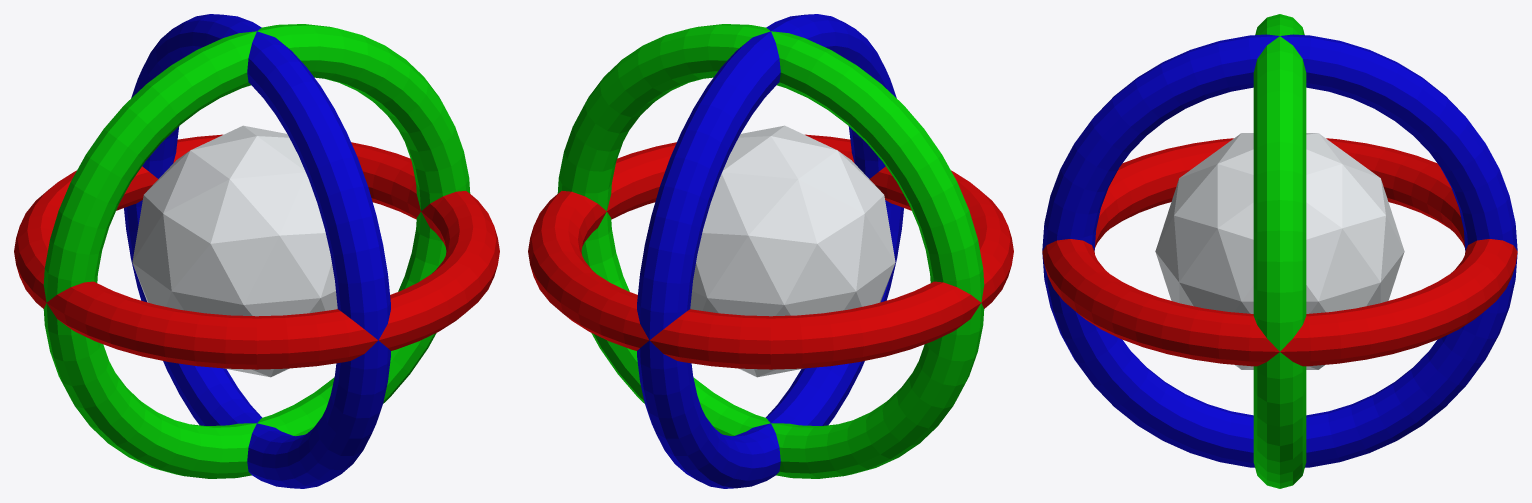
The model's file is fance.fbx.
The picture shows the model from 3 angles, left to right: view 1: azimuth 30°, elevation 25°; view 2: azimuth 150°, elevation 25°; view 3: azimuth 270°, elevation 25°; orthographic projection. The views are drawn at different scales.
Parts seen in each view (by area): view 1: Torus.002, Torus.001, Torus, Icosphere; view 2: Torus.002, Torus.001, Torus, Icosphere; view 3: Torus.001, Torus, Icosphere, Torus.002.
Part boxes in pixels (x1,y1,x2,y2): Torus.002: (43,24,470,478); Torus.001: (124,14,390,488); Torus: (14,134,499,369); Icosphere: (132,125,337,377); Torus.002: (557,24,984,478); Torus.001: (637,14,903,488); Torus: (528,134,1013,369); Icosphere: (690,125,895,377); Torus.001: (1042,34,1517,467); Torus: (1042,138,1517,366); Icosphere: (1155,133,1404,369); Torus.002: (1253,14,1306,488).
Size of the model in its own units: 454 by 454 by 454.
